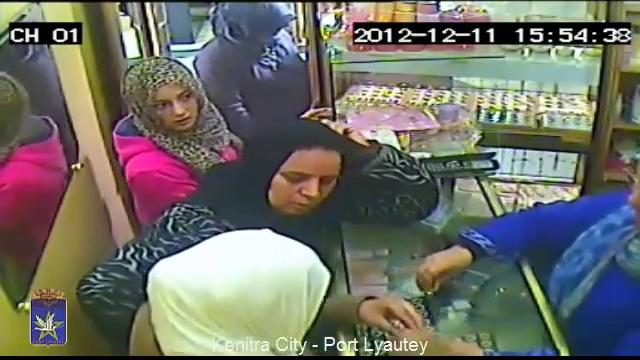Product: (369, 302, 424, 339), (409, 275, 431, 299)
Product-Picked: (397, 129, 640, 360), (137, 209, 416, 360)
Regular: (247, 109, 378, 231), (103, 48, 218, 176), (209, 1, 308, 107)
